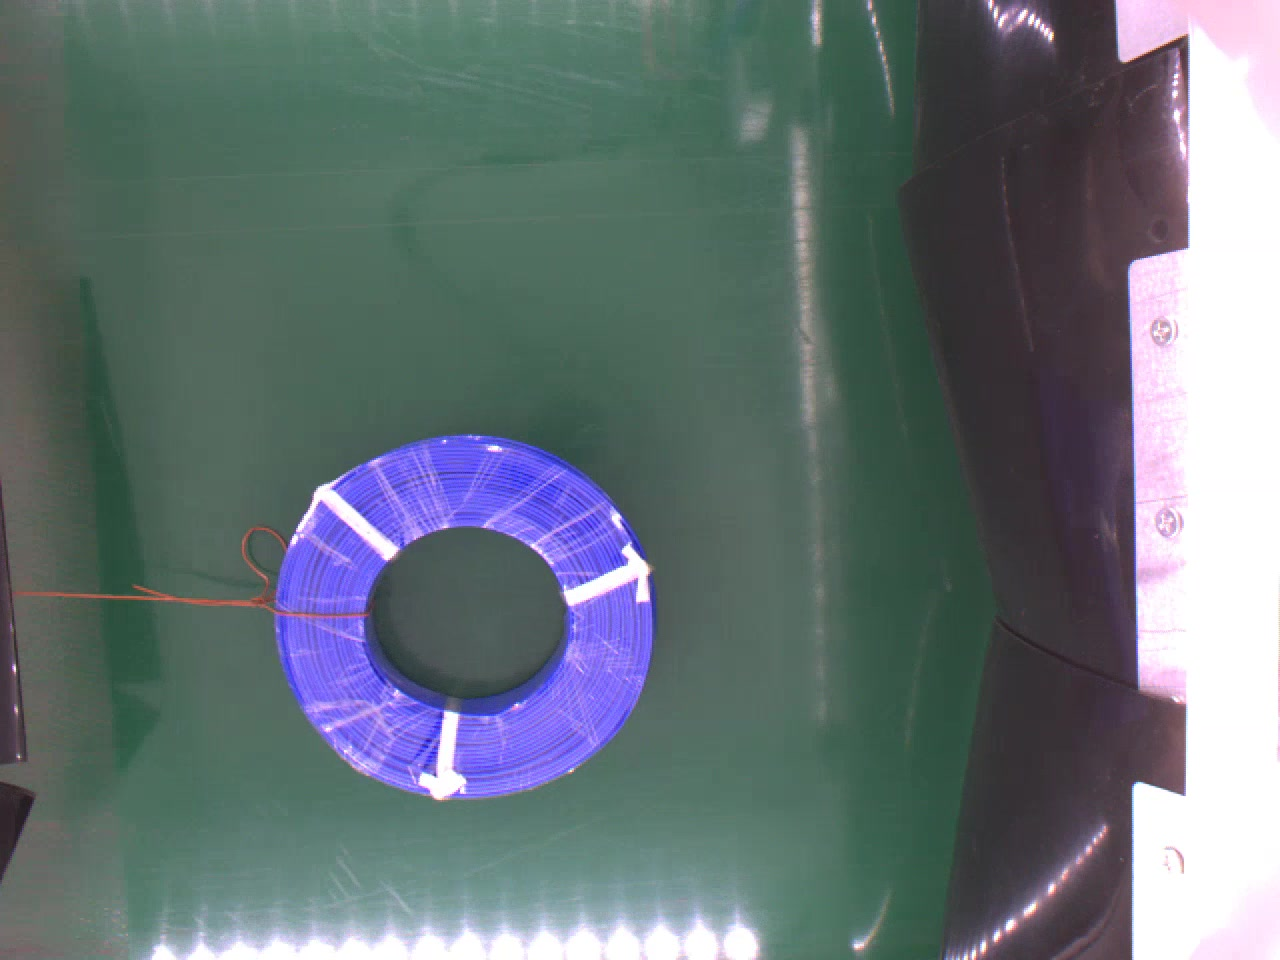blue: (276, 428, 655, 802)
